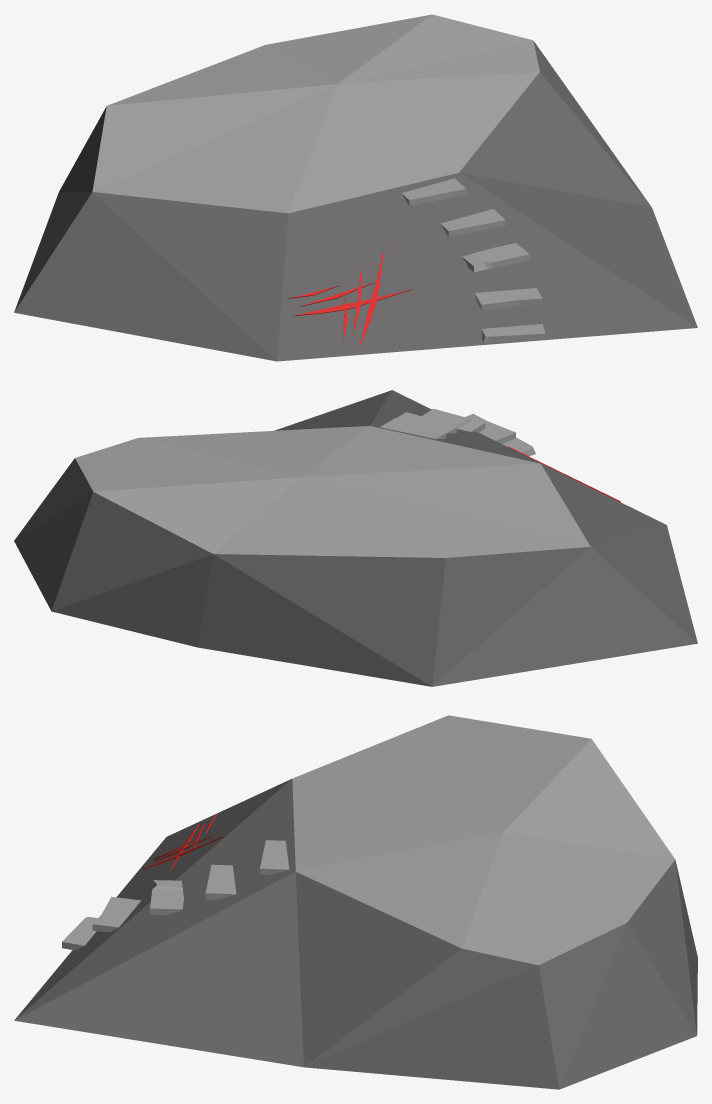
The model's file is Isl_4_Hill.fbx.
3 renders of one model, top to bottom at view 1: azimuth 30°, elevation 25°; view 2: azimuth 150°, elevation 25°; view 3: azimuth 270°, elevation 25°, orthographic. The views are drawn at different scales.
Visible parts, largest first — view 1: Isl_4_Hill; view 2: Isl_4_Hill; view 3: Isl_4_Hill.
Part boxes in pixels (box(x1,y1,x2,y2)): Isl_4_Hill: box(14, 14, 697, 361); Isl_4_Hill: box(14, 390, 697, 686); Isl_4_Hill: box(14, 715, 697, 1089).
Bounding box in the file's own units: 1481 × 1296 × 248.
1 material, 1 textured.
